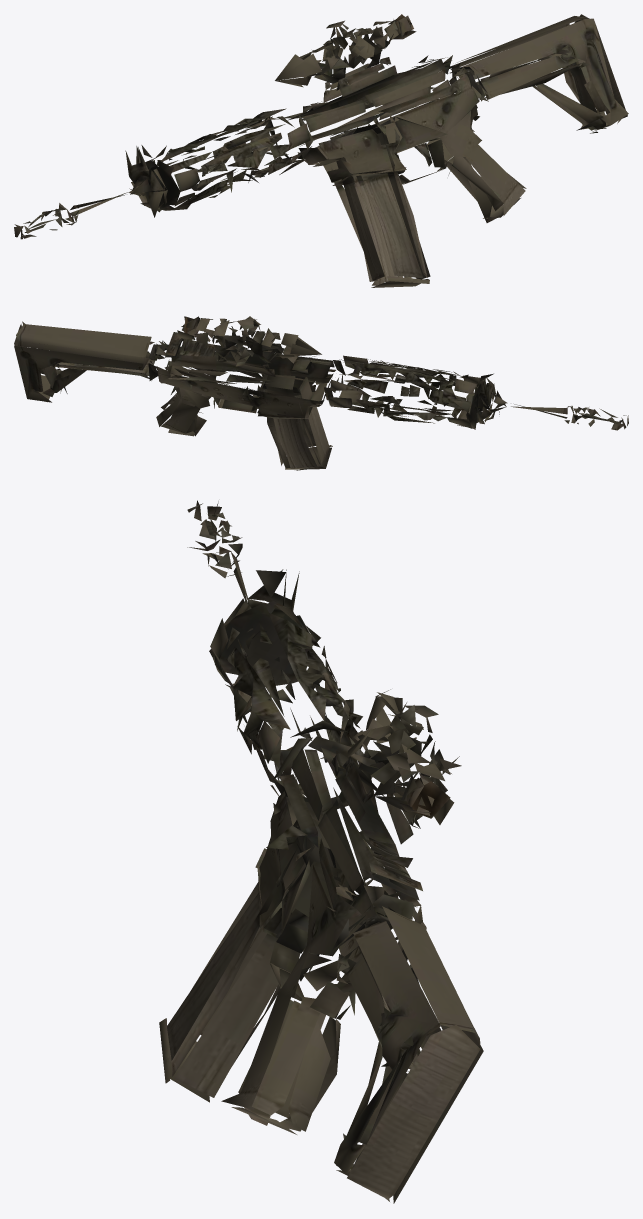
The model's file is mer_assault_rifle_LOD3.glb.
3 renders of one model, top to bottom at view 1: azimuth 30°, elevation 25°; view 2: azimuth 150°, elevation 25°; view 3: azimuth 270°, elevation 25°, orthographic. The views are drawn at different scales.
Visible parts, largest first — view 1: tripo_node_cba70034-4cd7-456c-9bc8-af55f574e1a5; view 2: tripo_node_cba70034-4cd7-456c-9bc8-af55f574e1a5; view 3: tripo_node_cba70034-4cd7-456c-9bc8-af55f574e1a5.
Part boxes in pixels (x1,y1,x2,y2): tripo_node_cba70034-4cd7-456c-9bc8-af55f574e1a5: (14,14,628,287); tripo_node_cba70034-4cd7-456c-9bc8-af55f574e1a5: (14,316,628,470); tripo_node_cba70034-4cd7-456c-9bc8-af55f574e1a5: (159,500,483,1203).
Bounding box in the file's own units: 0.998 × 0.3288 × 0.2512.
Materials: 1 (1 with a texture image).
